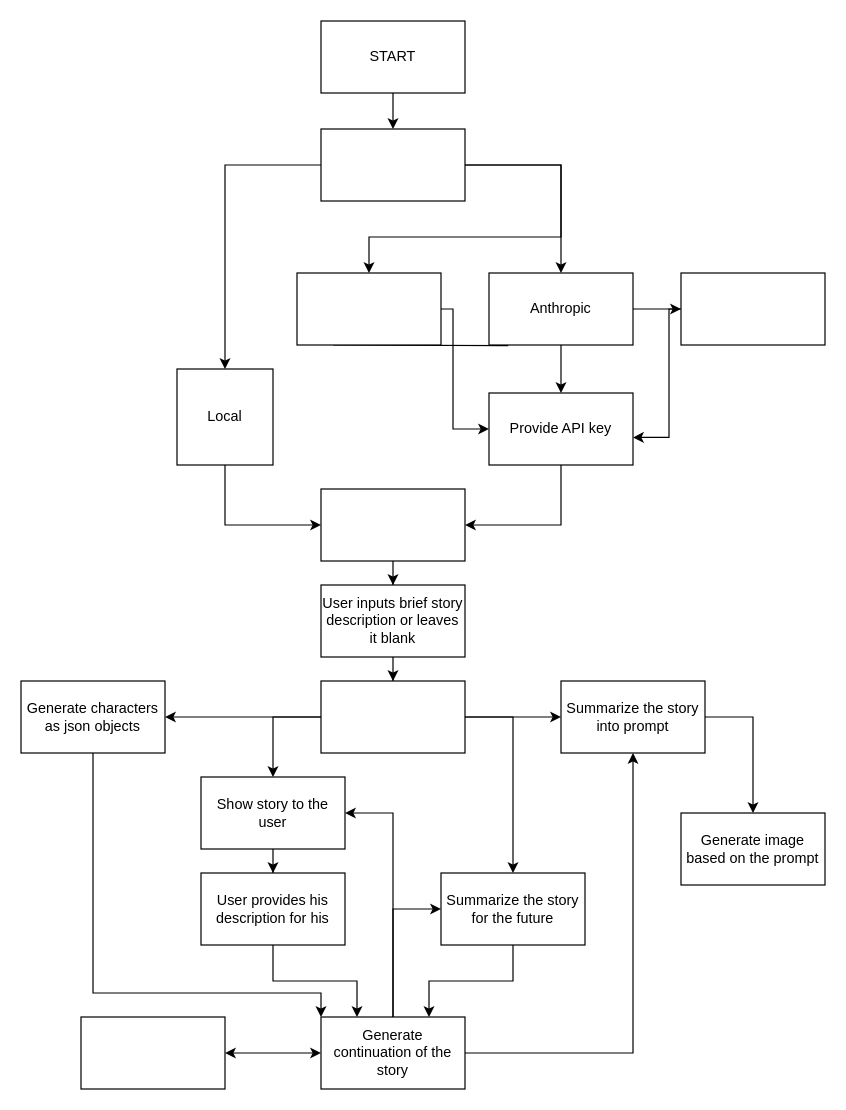
This 846x1110 diagram has some shape labels left out. Each missing label, with the centre of its shape:
"Choose API" belongs at [392,164].
"Choose models" belongs at [392,524].
"Generate story beginning as GM" belongs at [392,716].
"HF API" belongs at [752,308].
"OpenAI" belongs at [368,308].
"Update characters" belongs at [152,1052].
